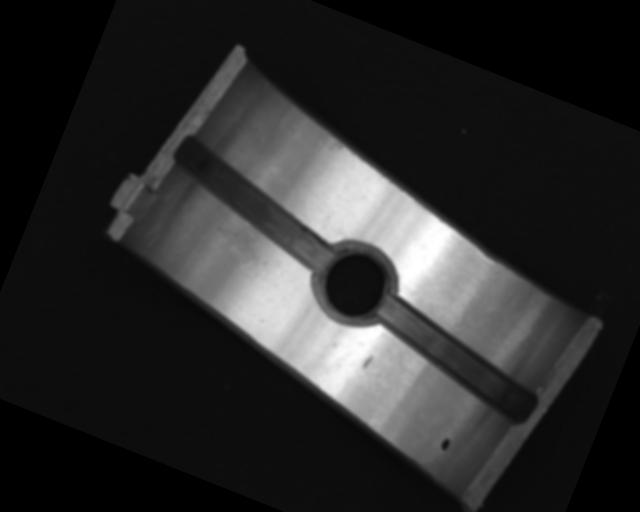blot: (438, 434, 453, 453)
bruise: (362, 353, 375, 372)
gap: (153, 135, 354, 276), (360, 293, 553, 427)
hole: (300, 233, 407, 338)
scratch: (191, 214, 286, 283)
